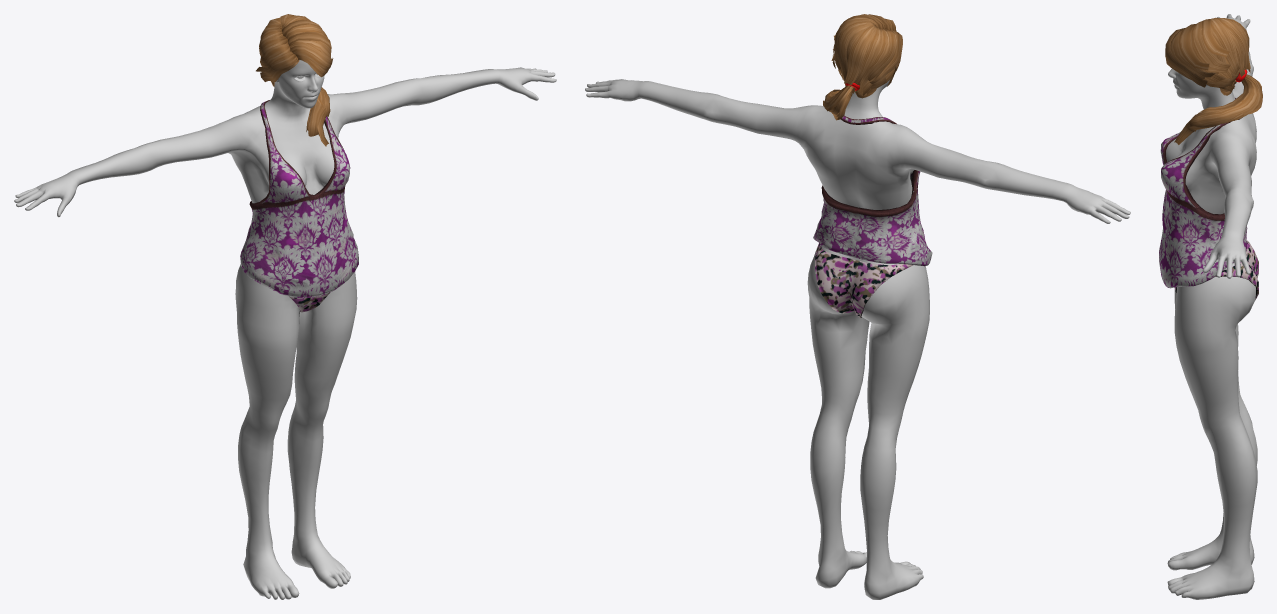
The model's file is Second_clothes_hair.obj.
3 views of the same model, side by side, from view 1: azimuth 30°, elevation 25°; view 2: azimuth 150°, elevation 25°; view 3: azimuth 270°, elevation 25° (orthographic).
Parts seen in each view (by area): view 1: Body, Tops, Hair; view 2: Body, Tops, Hair, Bottoms; view 3: Body, Hair, Tops, Bottoms.
Part boxes in pixels (<box>): Body: <box>14,60,556,599</box>; Tops: <box>240,100,358,298</box>; Hair: <box>256,14,333,146</box>; Body: <box>585,79,1130,599</box>; Tops: <box>813,115,932,266</box>; Hair: <box>823,14,902,120</box>; Bottoms: <box>815,243,913,317</box>; Body: <box>1166,14,1257,599</box>; Hair: <box>1165,17,1262,144</box>; Tops: <box>1159,98,1247,288</box>; Bottoms: <box>1174,240,1258,299</box>.
Size of the model in its own units: 17.95 by 17.85 by 3.
